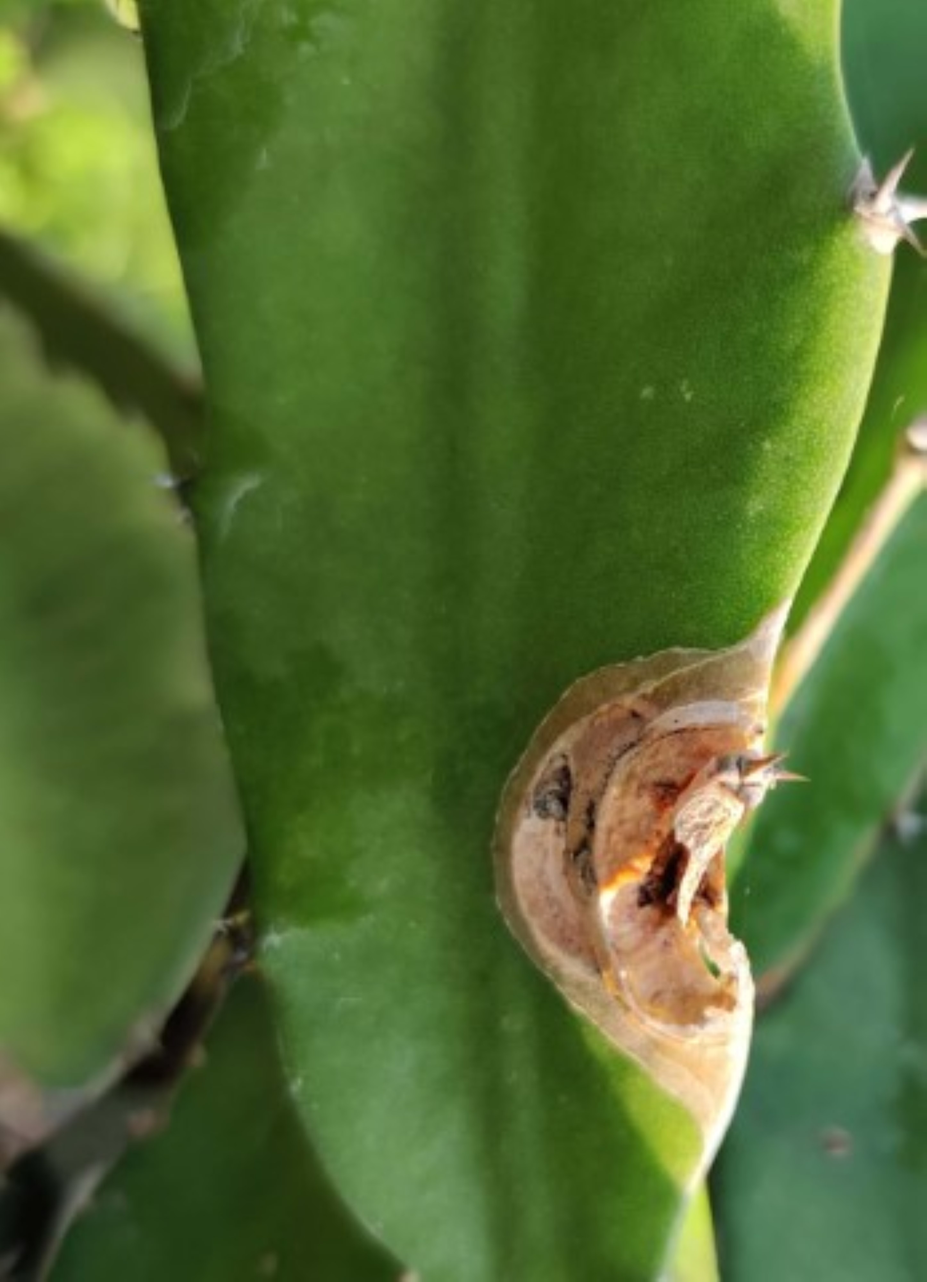stemcanker: (462, 554, 927, 1202)
